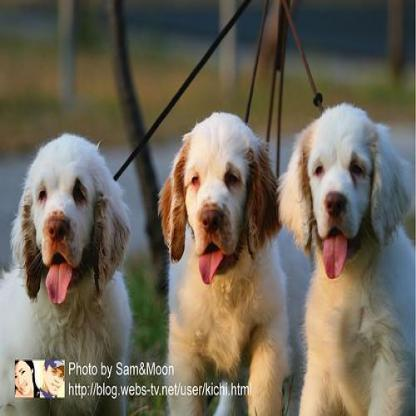clumber: (276, 98, 414, 414), (156, 110, 289, 414), (0, 132, 131, 413)
